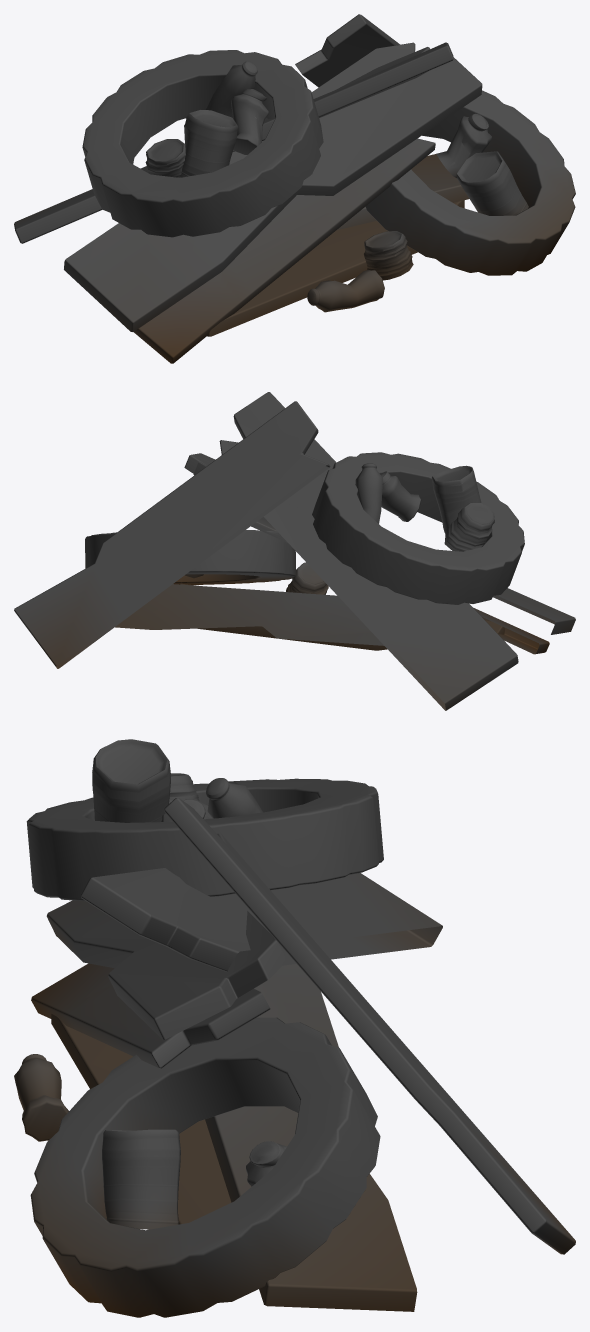
File: SM_Props_Garbage_02.fbx
3 views of the same model, one above another, from view 1: azimuth 30°, elevation 25°; view 2: azimuth 150°, elevation 25°; view 3: azimuth 270°, elevation 25° (orthographic). The views are drawn at different scales.
Visible parts, largest first — view 1: transform26; view 2: transform26; view 3: transform26.
Boxes of the visible parts, left/top/right/bottom form: transform26: left=14, top=14, right=575, bottom=363; transform26: left=14, top=392, right=575, bottom=710; transform26: left=14, top=739, right=575, bottom=1317.
Size of the model in its own units: 307 by 152 by 197.
